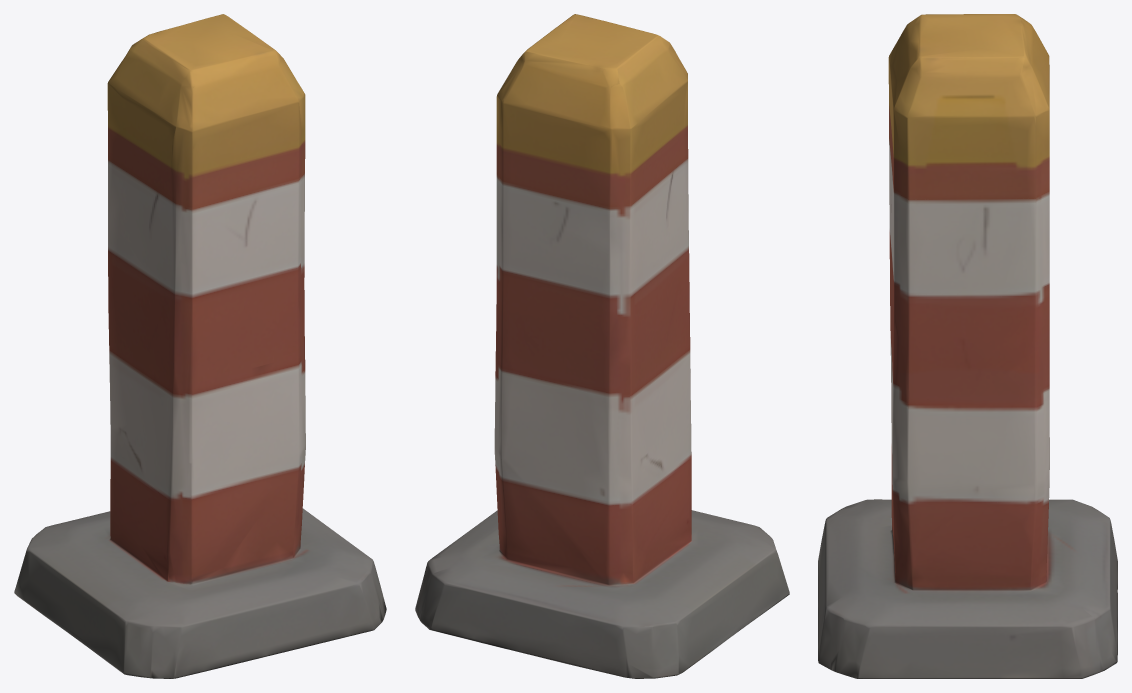
Rendered from post.fbx.
3 renders of one model, left to right at view 1: azimuth 30°, elevation 25°; view 2: azimuth 150°, elevation 25°; view 3: azimuth 270°, elevation 25°, orthographic. The views are drawn at different scales.
Parts seen in each view (by area): view 1: post; view 2: post; view 3: post.
Boxes of the visible parts, x1,y1,x2,y2 form: post: [14, 14, 386, 678]; post: [415, 14, 789, 678]; post: [818, 14, 1117, 678].
Bounding box in the file's own units: 14.68 × 29.76 × 13.85.
1 material, 1 textured.
